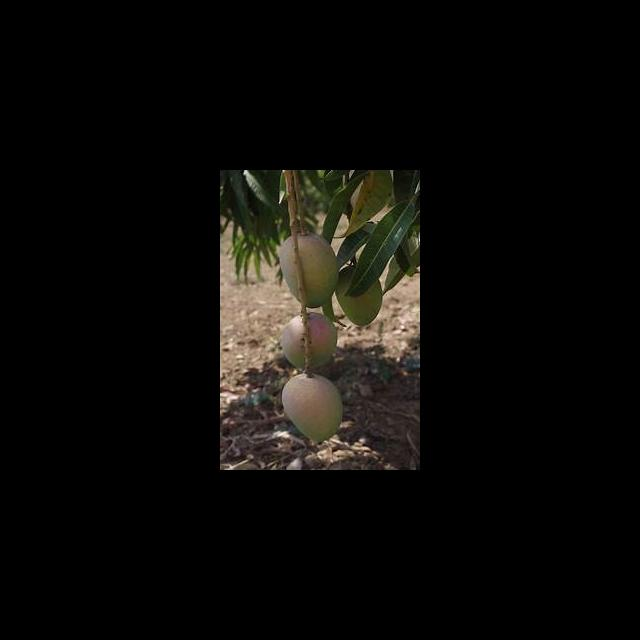mango: (279, 223, 339, 324), (283, 371, 343, 444), (282, 308, 338, 374)
